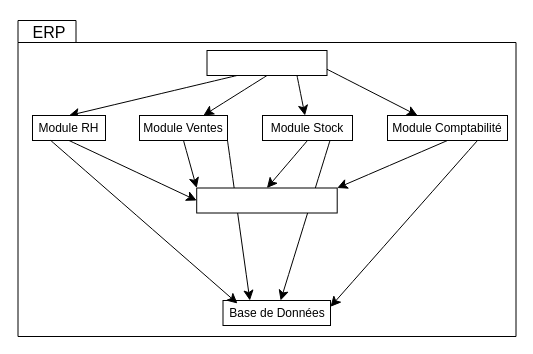
Some shapes in this 533 by 354 pixel diagram are drawn without their labels. Here are the shapes that lost their labels. From the top down, the centre of each, then its label:
At point 266,63: "Interface Utilisateur".
At point 266,200: "Module Authentification".
